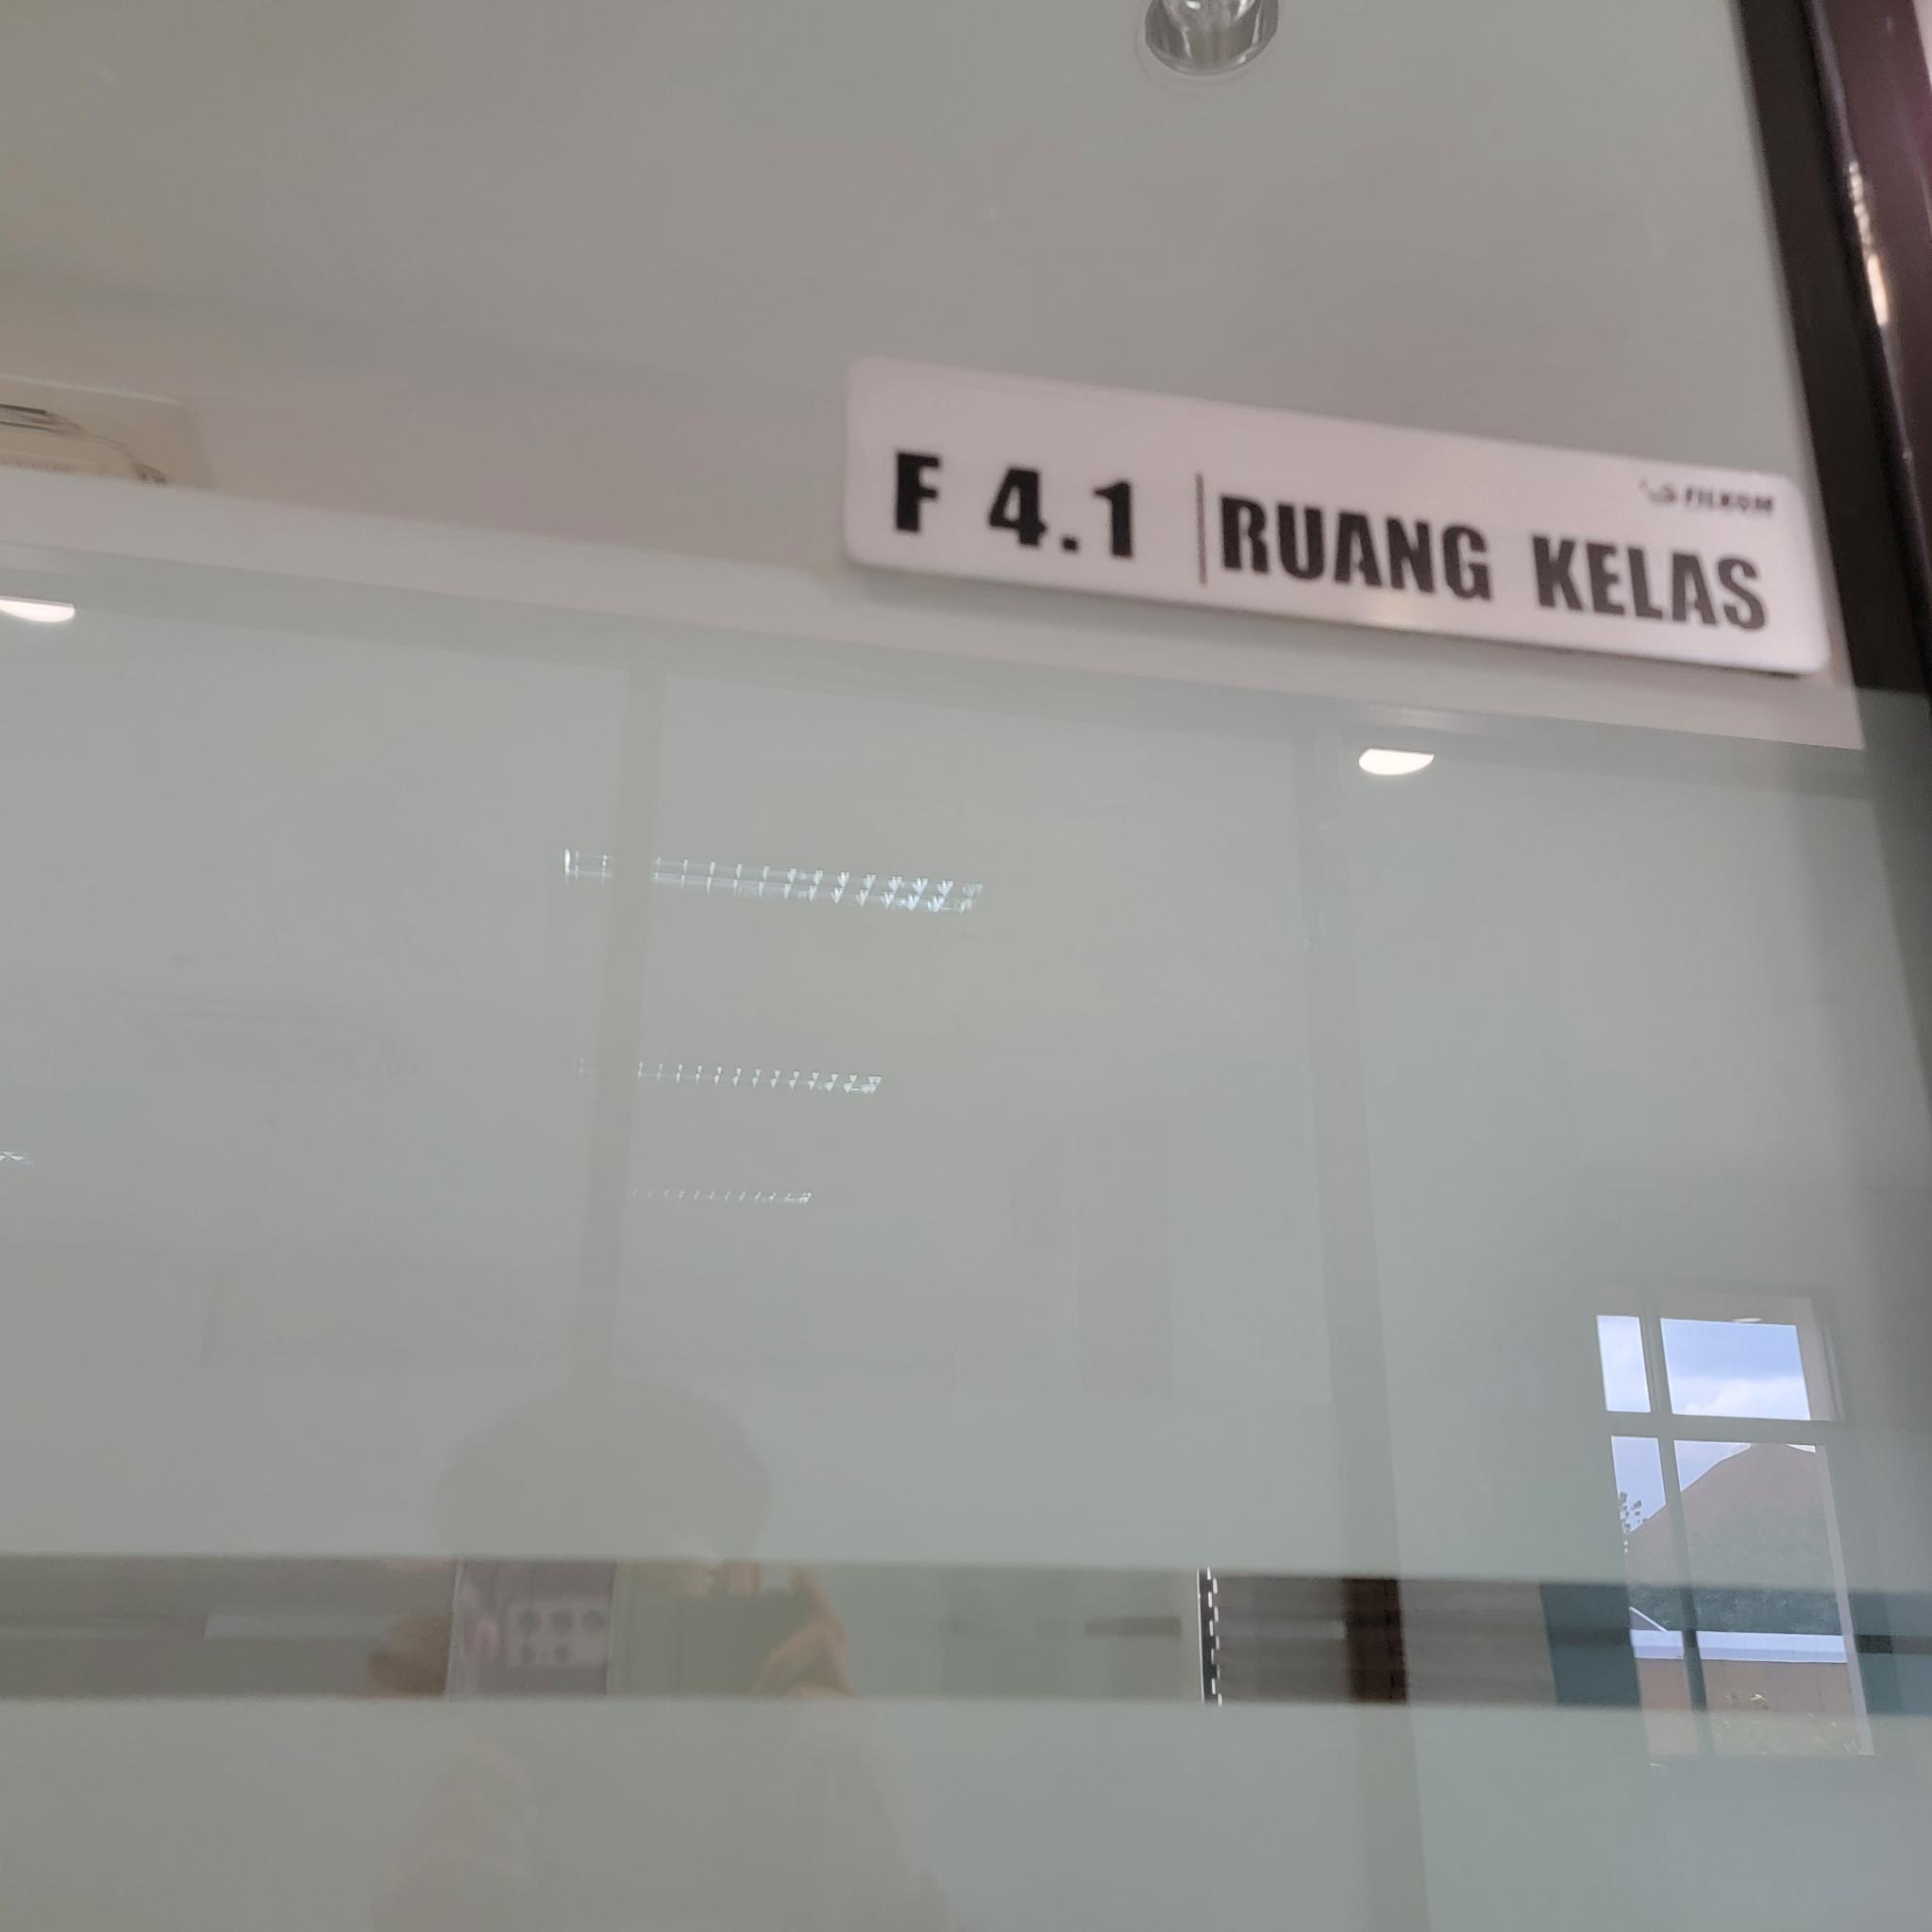plate: (844, 356, 1831, 679)
